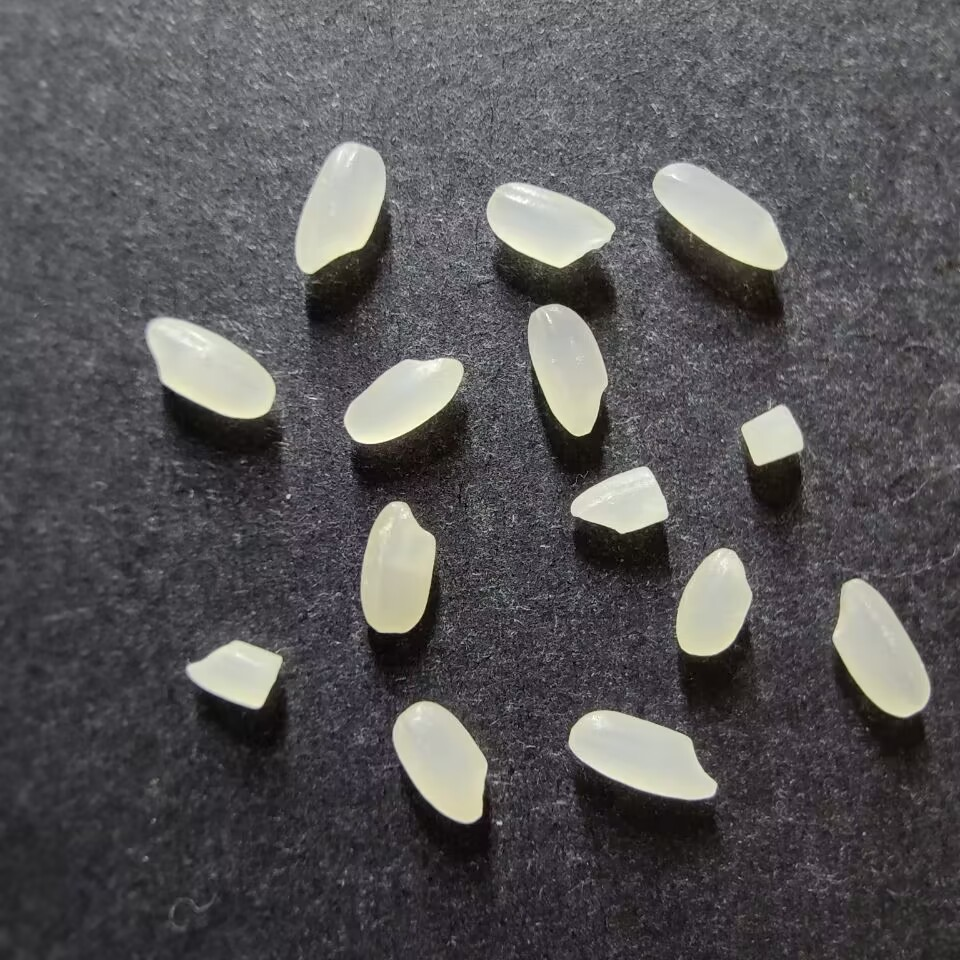broken: (569, 466, 669, 534), (186, 641, 282, 709), (740, 404, 804, 466)
rice: (651, 163, 789, 270), (567, 709, 717, 801), (831, 578, 930, 717), (144, 317, 275, 419), (294, 142, 386, 274), (392, 700, 488, 823), (485, 182, 616, 269), (526, 303, 607, 436), (343, 357, 463, 444), (359, 500, 436, 633), (675, 547, 752, 656)
